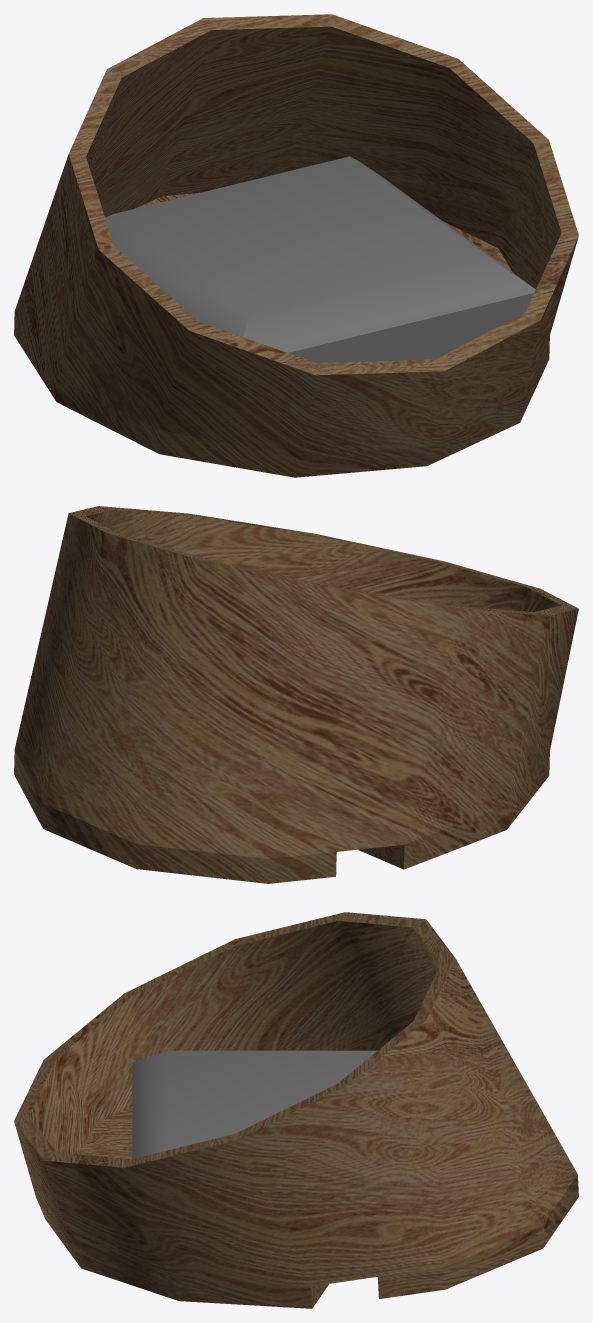
File: Covo Cat Bed.fbx
3 renders of one model, top to bottom at view 1: azimuth 30°, elevation 25°; view 2: azimuth 150°, elevation 25°; view 3: azimuth 270°, elevation 25°, orthographic. The views are drawn at different scales.
Parts seen in each view (by area): view 1: Covo_Cat_Bed1_pCylinder39; view 2: Covo_Cat_Bed1_pCylinder39; view 3: Covo_Cat_Bed1_pCylinder39.
Boxes of the visible parts, bbox=[...] form: Covo_Cat_Bed1_pCylinder39: bbox=[14, 14, 578, 477]; Covo_Cat_Bed1_pCylinder39: bbox=[14, 506, 578, 883]; Covo_Cat_Bed1_pCylinder39: bbox=[14, 912, 578, 1308].
Bounding box in the file's own units: 57.85 × 34.91 × 68.54.
